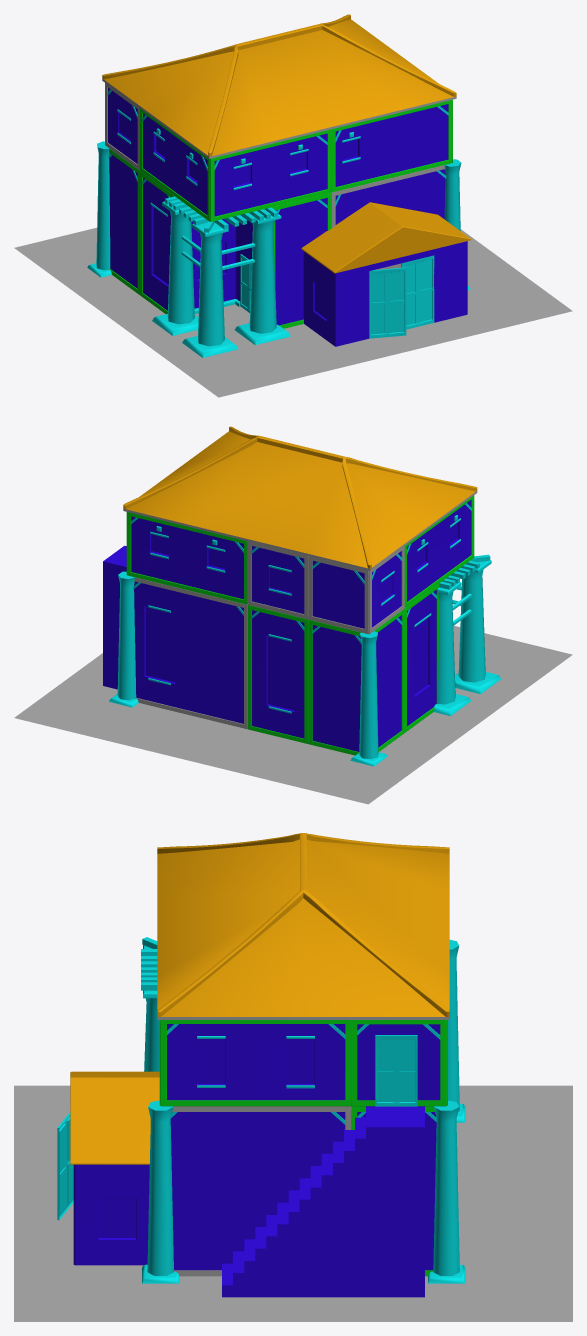
The model's file is EgyptianTraderHomePivotFixedfbx.fbx.
3 renders of one model, top to bottom at view 1: azimuth 30°, elevation 25°; view 2: azimuth 150°, elevation 25°; view 3: azimuth 270°, elevation 25°, orthographic. The views are drawn at different scales.
Visible parts, largest first — view 1: bigroof, pPlane52, OuthouseWall, OuthouseROof, NewNewHouse_FrontWall_SecondFloorOGWall_polySurface4, FrontTwoWindowWall2, polySurface14, FrontTwoWindowWall3, polySurface15, pPlane49, polySurface5, PillarBase10 (+24 smaller); view 2: pPlane52, bigroof, pPlane50, FrontTwoWindowWall4, polySurface17, polySurface18, PillarBase9 (×2), FrontTwoWindowWall3, polySurface5, PlainWall2, polySurface15, PlainWall3 (+20 smaller); view 3: pPlane52, bigroof, Staircase, pPlane51, NewNewHouse_FrontWall_SecondFloorOGWall_polySurface6, PillarBase9 (×3), OuthouseROof, OuthouseWall, PlainWall1, MediumFrame4, SmallDoor3, SmallFrame3 (+9 smaller).
Part boxes in pixels (box(x1,y1,x2,y2)): bigroof: box(104, 19, 453, 155); pPlane52: box(14, 227, 572, 397); OuthouseWall: box(303, 241, 467, 346); OuthouseROof: box(301, 202, 471, 273); NewNewHouse_FrontWall_SecondFloorOGWall_polySurface4: box(335, 104, 448, 186); FrontTwoWindowWall2: box(214, 133, 327, 216); polySurface14: box(275, 198, 327, 325); FrontTwoWindowWall3: box(143, 113, 207, 215); polySurface15: box(109, 153, 137, 288); pPlane49: box(335, 169, 445, 224); polySurface5: box(143, 177, 170, 310); PillarBase10: box(198, 233, 224, 346); pPlane52: box(14, 625, 572, 804); bigroof: box(126, 431, 475, 568); pPlane50: box(134, 581, 243, 723); FrontTwoWindowWall4: box(131, 516, 243, 599); polySurface17: box(252, 610, 304, 738); polySurface18: box(312, 625, 361, 751); PillarBase9 (×2): box(117, 571, 378, 759); FrontTwoWindowWall3: box(407, 500, 471, 601); polySurface5: box(407, 589, 436, 726); PlainWall2: box(312, 561, 364, 628); polySurface15: box(376, 615, 401, 747); PlainWall3: box(252, 546, 304, 613); pPlane52: box(14, 1085, 572, 1321); bigroof: box(157, 839, 449, 1016); Staircase: box(222, 1106, 424, 1297); pPlane51: box(170, 1112, 345, 1270); NewNewHouse_FrontWall_SecondFloorOGWall_polySurface6: box(167, 1024, 345, 1100); PillarBase9 (×3): box(147, 940, 459, 1275); OuthouseROof: box(70, 1071, 159, 1164); OuthouseWall: box(73, 1164, 149, 1265); PlainWall1: box(357, 1024, 440, 1100); MediumFrame4: box(160, 1020, 351, 1106); SmallDoor3: box(375, 1035, 417, 1106); SmallFrame3: box(351, 1020, 446, 1106).
Size of the model in its own units: 3 by 1.98 by 3.
